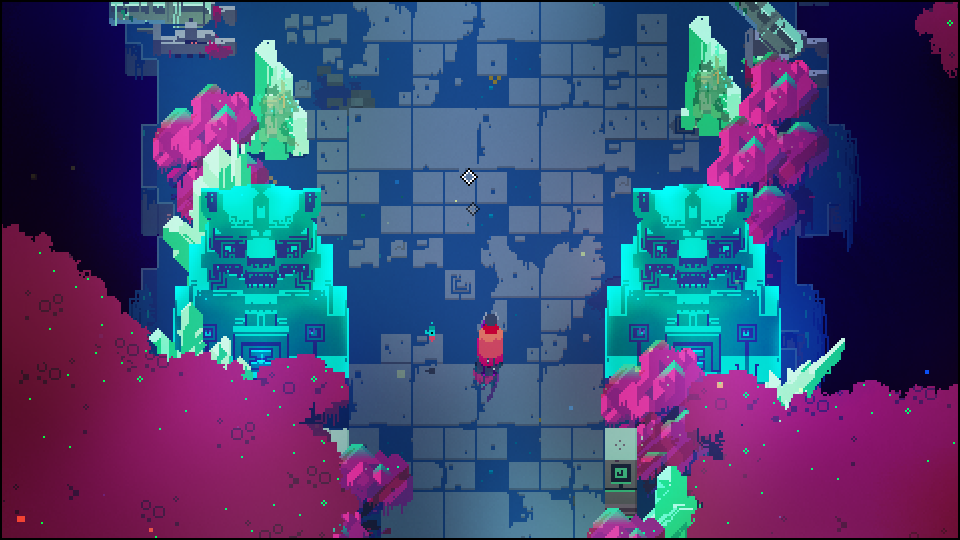player: (477, 311, 502, 369)
